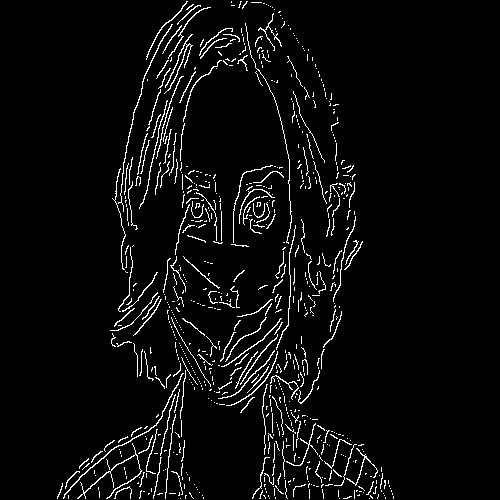mask: (160, 235, 300, 413)
